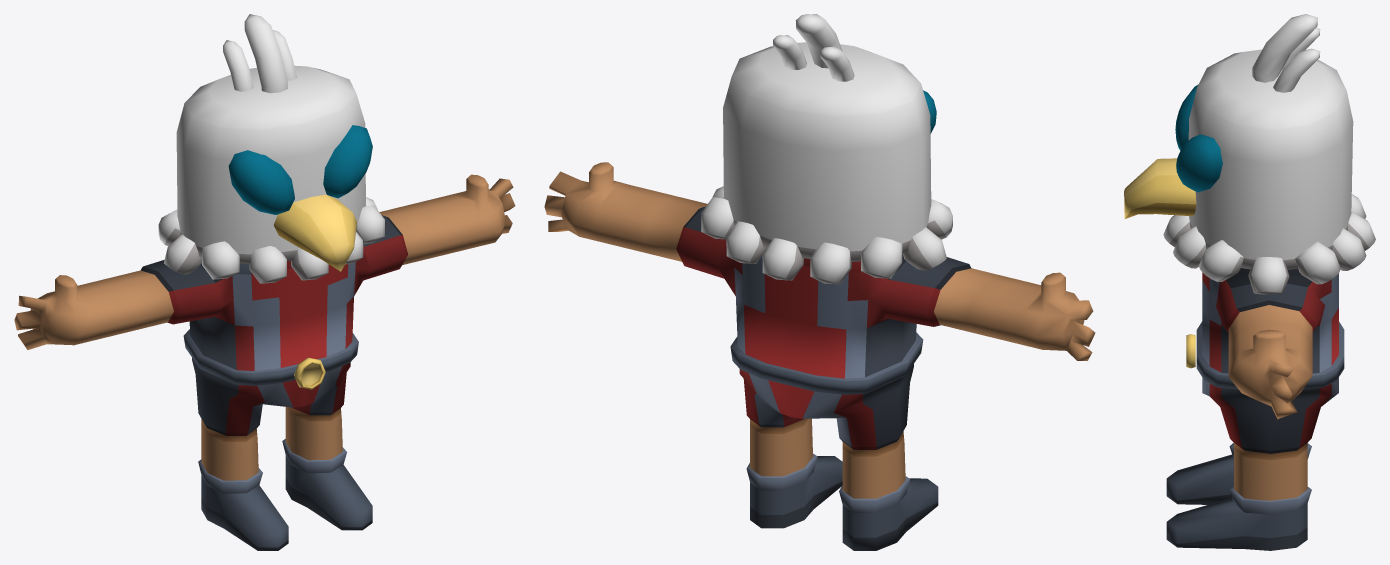
Rendered from ARVID PRONTO.fbx.
3 renders of one model, left to right at view 1: azimuth 30°, elevation 25°; view 2: azimuth 150°, elevation 25°; view 3: azimuth 270°, elevation 25°, orthographic. The views are drawn at different scales.
Parts seen in each view (by area): view 1: Corpo, Cabeça (mascara de aguia); view 2: Corpo, Cabeça (mascara de aguia); view 3: Cabeça (mascara de aguia), Corpo.
Part boxes in pixels (x1=…): Corpo: x1=14, y1=174, x2=515, y2=550; Cabeça (mascara de aguia): x1=158, y1=14, x2=384, y2=283; Corpo: x1=544, y1=162, x2=1095, y2=550; Cabeça (mascara de aguia): x1=701, y1=14, x2=952, y2=284; Cabeça (mascara de aguia): x1=1124, y1=14, x2=1375, y2=294; Corpo: x1=1166, y1=268, x2=1344, y2=550.
Size of the model in its own units: 131 by 121 by 54.87.
1 material, 1 textured.
